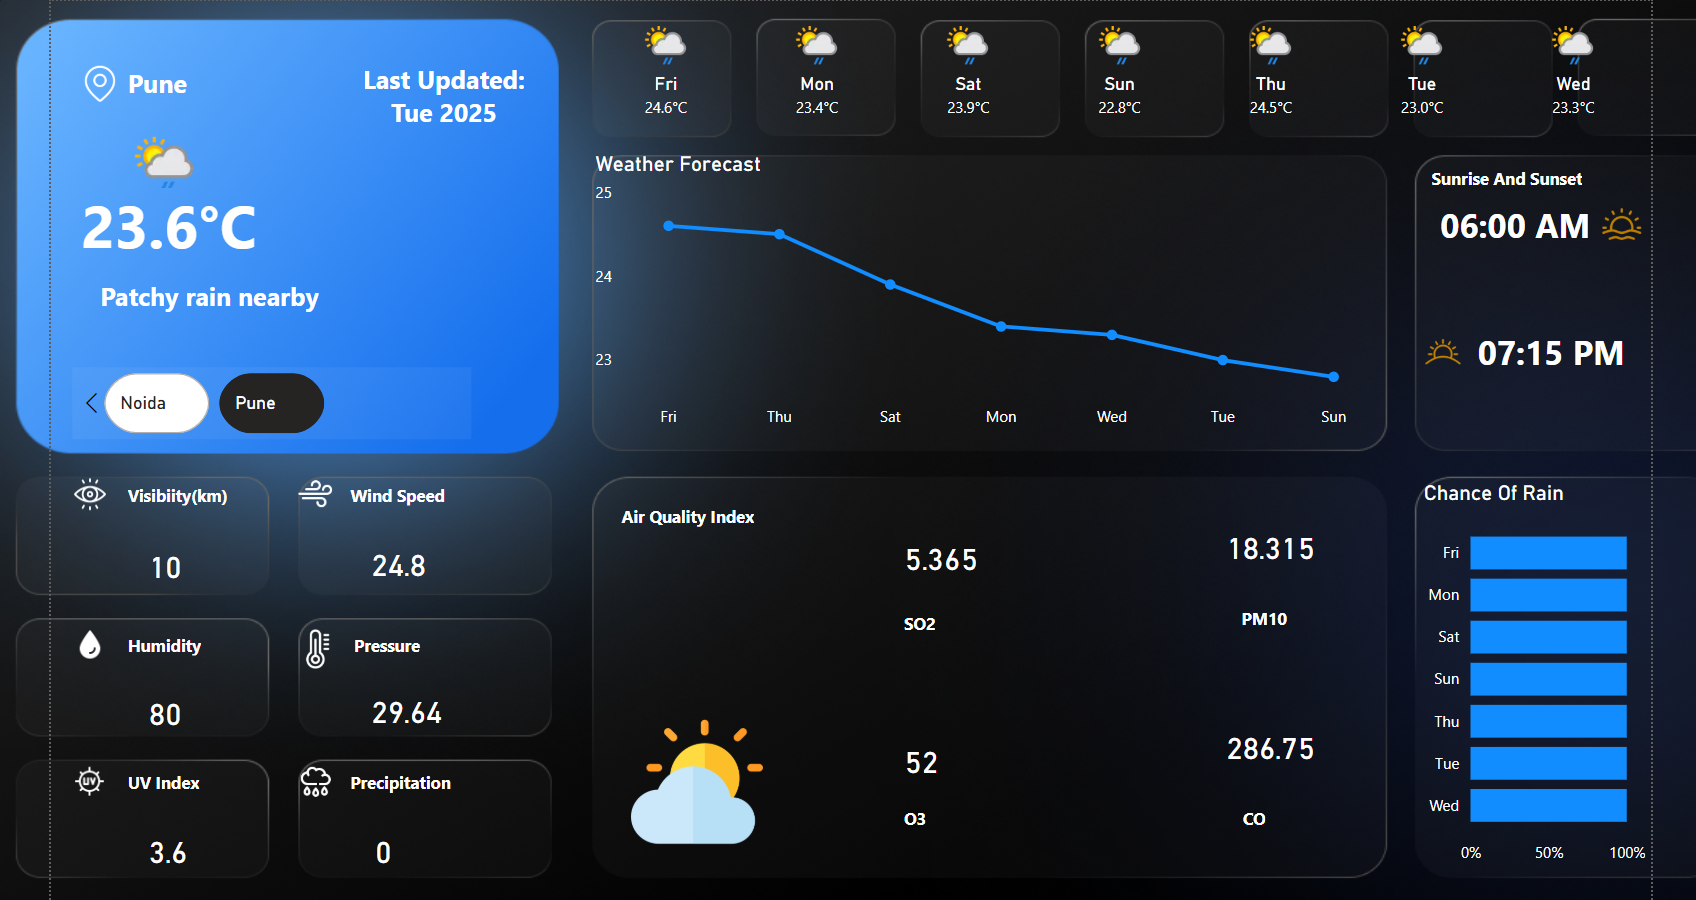

Layout of this report page (visuals, bound fields, positions):
{"tool":"powerbi","page":{"name":"Page 1","canvas":[1280,720],"ordinal":0},"visuals":[{"type":"advancedSlicerVisual","fields":{"Values":["Locations.location.name"]},"box":[17,293,319,58],"z":0},{"type":"shape","box":[24,104,262,150],"z":1000},{"type":"shape","box":[39,161,262,150],"z":2000},{"type":"shape","box":[61,37,94,58],"z":3000},{"type":"shape","box":[245,47,138,57],"z":4000},{"type":"image","box":[0,47,78,39],"z":5000},{"type":"cardVisual","fields":{"Data":["Min(Current.current.condition.icon)"]},"box":[39,84,105,71],"z":6000},{"type":"image","box":[0,377,61,36],"z":7000},{"type":"shape","box":[61,366,94,58],"z":8000},{"type":"image","box":[0,498,61,34],"z":9000},{"type":"shape","box":[61,486,94,58],"z":10000},{"type":"image","box":[0,607,61,35],"z":11000},{"type":"shape","box":[61,596,94,58],"z":12000},{"type":"image","box":[177,375,68,39],"z":13000},{"type":"shape","box":[239,366,94,58],"z":14000},{"type":"image","box":[177,498,72,41],"z":15000},{"type":"shape","box":[242,486,94,58],"z":16000},{"type":"image","box":[177,605,69,40],"z":17000},{"type":"shape","box":[239,596,94,58],"z":18000},{"type":"cardVisual","fields":{"Data":["Min(Current.current.vis_km)"]},"box":[61,414,98,60],"z":19000},{"type":"cardVisual","fields":{"Data":["Min(Current.current.humidity)"]},"box":[61,532,109,66],"z":20000},{"type":"cardVisual","fields":{"Data":["Min(Current.current.uv)"]},"box":[61,642,109,66],"z":21000},{"type":"cardVisual","fields":{"Data":["Min(Current.current.wind_kph)"]},"box":[239,413,84,66],"z":22000},{"type":"cardVisual","fields":{"Data":["Min(Current.current.pressure_in)"]},"box":[239,530,109,66],"z":23000},{"type":"cardVisual","fields":{"Data":["Min(Current.current.precip_in)"]},"box":[242,642,109,66],"z":24000},{"type":"advancedSlicerVisual","fields":{"Values":["Forecast_Day.Day_Name"]},"box":[430,9,850,95],"z":25000},{"type":"lineChart","title":"Weather Forecast","fields":{"Category":["Forecast_Day.Day_Name"],"Y":["Sum(Forecast_Day.AvgTemp_Numeric)"]},"box":[430,120,636,231],"z":26000},{"type":"shape","box":[1104,113,138,58],"z":27000},{"type":"shape","box":[1111,104,169,150],"z":28000},{"type":"shape","box":[1141,223,131,115],"z":29000},{"type":"image","box":[1086,257,55,48],"z":30000},{"type":"image","box":[1233,158,47,41],"z":31000},{"type":"hundredPercentStackedBarChart","title":"Chance Of Rain","fields":{"Category":["Forecast_Day.Day_Name"],"Y":["CountNonNull(Forecast_Day.forecast.forecastday.day.daily_chance_of_rain)"]},"box":[1093,383,187,317],"z":32000},{"type":"shape","box":[456,383,140,58],"z":33000},{"type":"cardVisual","fields":{"Data":["Min(Current.current.air_quality.pm10)"]},"box":[923,399,107,66],"z":33001},{"type":"shape","box":[952,465,49,58],"z":33002},{"type":"cardVisual","fields":{"Data":["Min(Current.current.air_quality.co)"]},"box":[923,559,107,66],"z":33003},{"type":"shape","box":[953,625,49,58],"z":33004},{"type":"cardVisual","fields":{"Data":["Min(Current.current.air_quality.o3)"]},"box":[665,570,107,66],"z":33005},{"type":"shape","box":[682,625,49,58],"z":33006},{"type":"cardVisual","fields":{"Data":["Min(Current.current.air_quality.so2)"]},"box":[665,408,107,66],"z":33007},{"type":"shape","box":[682,469,49,58],"z":33008},{"type":"image","box":[456,567,121,116],"z":33009}]}

Visuals, with their boxes on the page's 1280x720 design canvas (x1, y1, x2, y2). These are canvas units, not pixel positions in the 1696x900 screenshot, which may show the page scaled, cropped or inside an application window:
advancedSlicerVisual - Locations.location.name: locate(17, 293, 336, 351)
shape: locate(24, 104, 286, 254)
shape: locate(39, 161, 301, 311)
shape: locate(61, 37, 155, 95)
shape: locate(245, 47, 383, 104)
image: locate(0, 47, 78, 86)
cardVisual - Min(Current.current.condition.icon): locate(39, 84, 144, 155)
image: locate(0, 377, 61, 413)
shape: locate(61, 366, 155, 424)
image: locate(0, 498, 61, 532)
shape: locate(61, 486, 155, 544)
image: locate(0, 607, 61, 642)
shape: locate(61, 596, 155, 654)
image: locate(177, 375, 245, 414)
shape: locate(239, 366, 333, 424)
image: locate(177, 498, 249, 539)
shape: locate(242, 486, 336, 544)
image: locate(177, 605, 246, 645)
shape: locate(239, 596, 333, 654)
cardVisual - Min(Current.current.vis_km): locate(61, 414, 159, 474)
cardVisual - Min(Current.current.humidity): locate(61, 532, 170, 598)
cardVisual - Min(Current.current.uv): locate(61, 642, 170, 708)
cardVisual - Min(Current.current.wind_kph): locate(239, 413, 323, 479)
cardVisual - Min(Current.current.pressure_in): locate(239, 530, 348, 596)
cardVisual - Min(Current.current.precip_in): locate(242, 642, 351, 708)
advancedSlicerVisual - Forecast_Day.Day_Name: locate(430, 9, 1280, 104)
"Weather Forecast" lineChart: locate(430, 120, 1066, 351)
shape: locate(1104, 113, 1242, 171)
shape: locate(1111, 104, 1280, 254)
shape: locate(1141, 223, 1272, 338)
image: locate(1086, 257, 1141, 305)
image: locate(1233, 158, 1280, 199)
"Chance Of Rain" hundredPercentStackedBarChart: locate(1093, 383, 1280, 700)
shape: locate(456, 383, 596, 441)
cardVisual - Min(Current.current.air_quality.pm10): locate(923, 399, 1030, 465)
shape: locate(952, 465, 1001, 523)
cardVisual - Min(Current.current.air_quality.co): locate(923, 559, 1030, 625)
shape: locate(953, 625, 1002, 683)
cardVisual - Min(Current.current.air_quality.o3): locate(665, 570, 772, 636)
shape: locate(682, 625, 731, 683)
cardVisual - Min(Current.current.air_quality.so2): locate(665, 408, 772, 474)
shape: locate(682, 469, 731, 527)
image: locate(456, 567, 577, 683)
